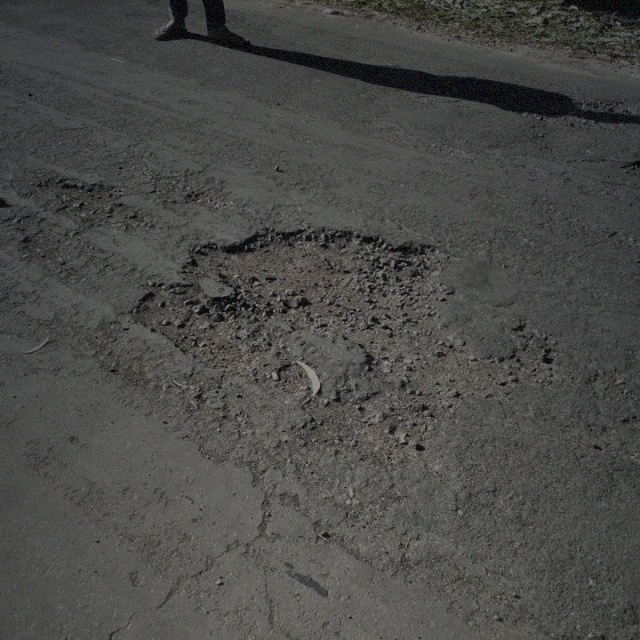pothole: (127, 218, 565, 465), (30, 174, 126, 228)
